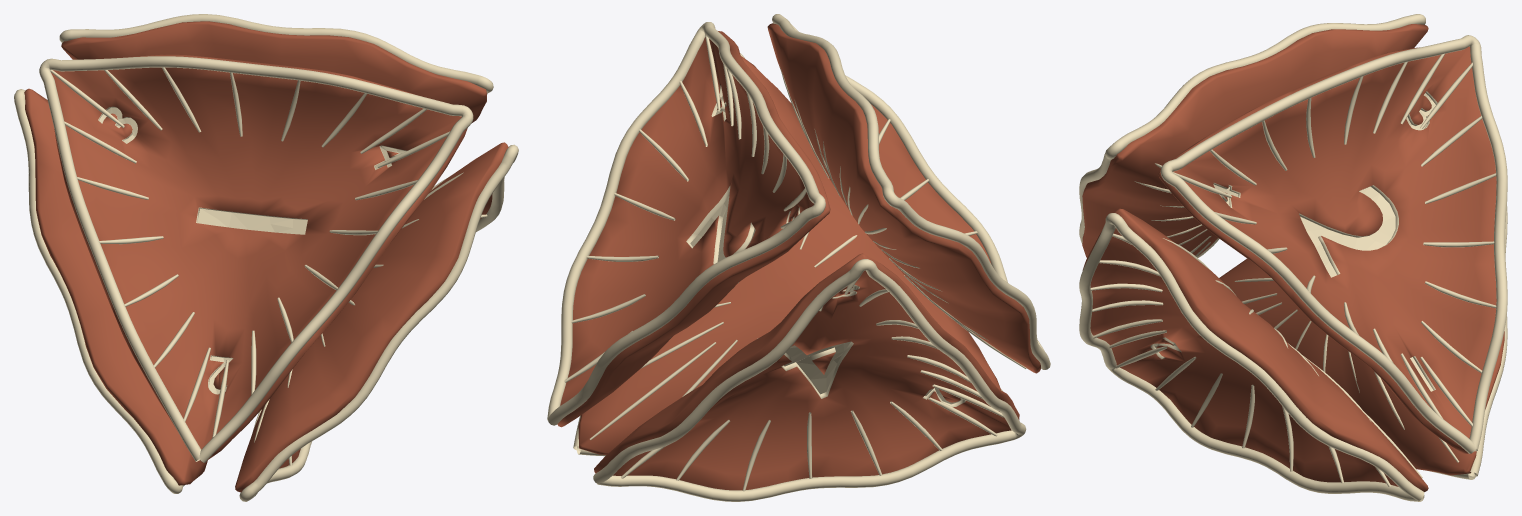
3 renders of one model, left to right at view 1: azimuth 30°, elevation 25°; view 2: azimuth 150°, elevation 25°; view 3: azimuth 270°, elevation 25°, orthographic.
Parts seen in each view (by area): view 1: woodland sculpted d4 canonical die-only; view 2: woodland sculpted d4 canonical die-only; view 3: woodland sculpted d4 canonical die-only.
Boxes of the visible parts, left/top/right/bottom form: woodland sculpted d4 canonical die-only: left=14, top=14, right=518, bottom=501; woodland sculpted d4 canonical die-only: left=547, top=14, right=1050, bottom=501; woodland sculpted d4 canonical die-only: left=1079, top=14, right=1507, bottom=501.
Size of the model in its own units: 1.54 by 1.54 by 1.54.
